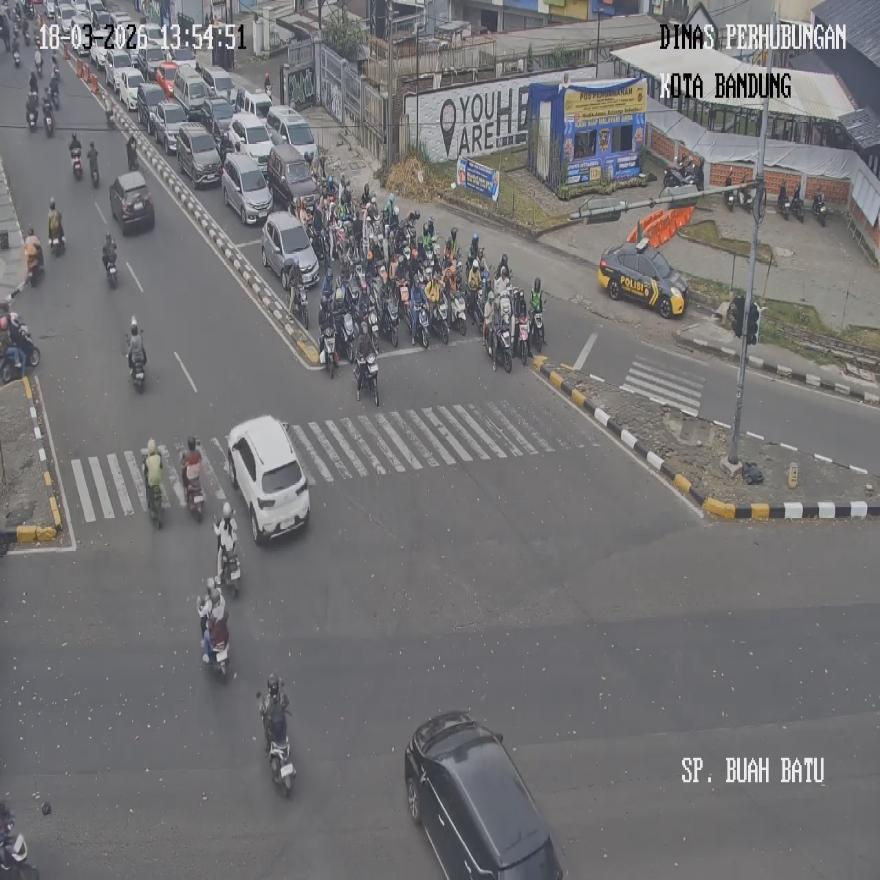Mobil: (404, 710, 564, 879), (226, 415, 311, 542), (597, 234, 689, 316), (223, 152, 273, 224), (266, 105, 316, 169), (176, 120, 221, 187)
Motor: (0, 799, 50, 880), (258, 690, 294, 796), (0, 320, 40, 383), (200, 598, 229, 682), (356, 351, 379, 407), (218, 542, 241, 596), (183, 465, 204, 520), (146, 461, 162, 528), (290, 277, 310, 329), (492, 320, 512, 372), (320, 326, 339, 376), (338, 310, 356, 362), (464, 287, 483, 336), (412, 301, 431, 347), (25, 240, 43, 287), (382, 297, 399, 346), (514, 316, 530, 366), (128, 347, 145, 391), (449, 291, 466, 335), (435, 297, 451, 343), (102, 248, 118, 287), (789, 187, 806, 222), (530, 309, 544, 350), (740, 180, 756, 215), (724, 171, 737, 213), (87, 142, 99, 187), (776, 182, 790, 218), (812, 191, 826, 226), (26, 95, 38, 132), (43, 96, 54, 136), (127, 134, 138, 173), (50, 230, 66, 255), (72, 146, 83, 180), (90, 155, 100, 187), (12, 44, 21, 67)
